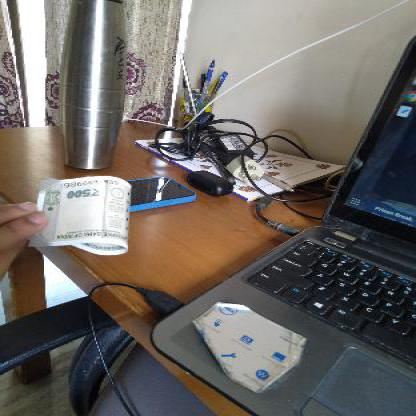New500Front: (44, 179, 135, 248)
